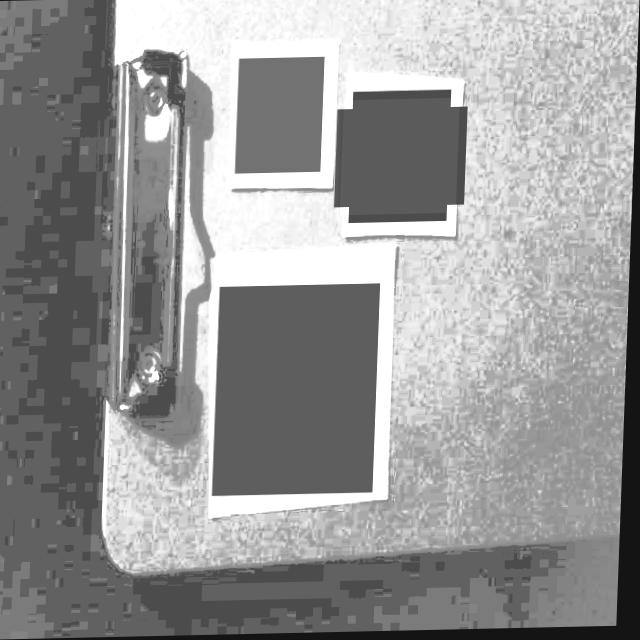qr_code: (215, 284, 384, 496), (342, 99, 461, 216), (236, 57, 326, 174)
